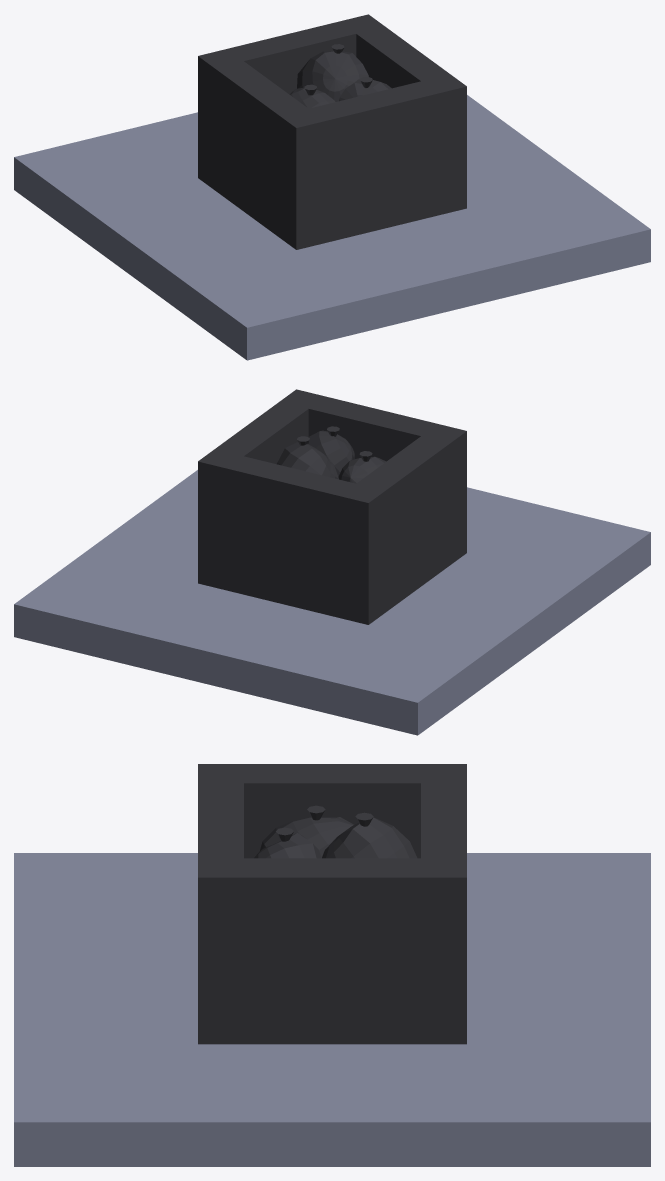
Rendered from waste_disposal.glb.
3 views of the same model, one above another, from view 1: azimuth 30°, elevation 25°; view 2: azimuth 150°, elevation 25°; view 3: azimuth 270°, elevation 25° (orthographic). The views are drawn at different scales.
Parts seen in each view (by area): view 1: WasteDisposal; view 2: WasteDisposal; view 3: WasteDisposal.
Boxes of the visible parts, box(x1,y1,x2,y2) form: WasteDisposal: box(14, 14, 650, 360); WasteDisposal: box(14, 389, 650, 735); WasteDisposal: box(14, 764, 650, 1166).
Bounding box in the file's own units: 0.6929 × 0.2728 × 0.6929.
2 materials, 2 textured.
